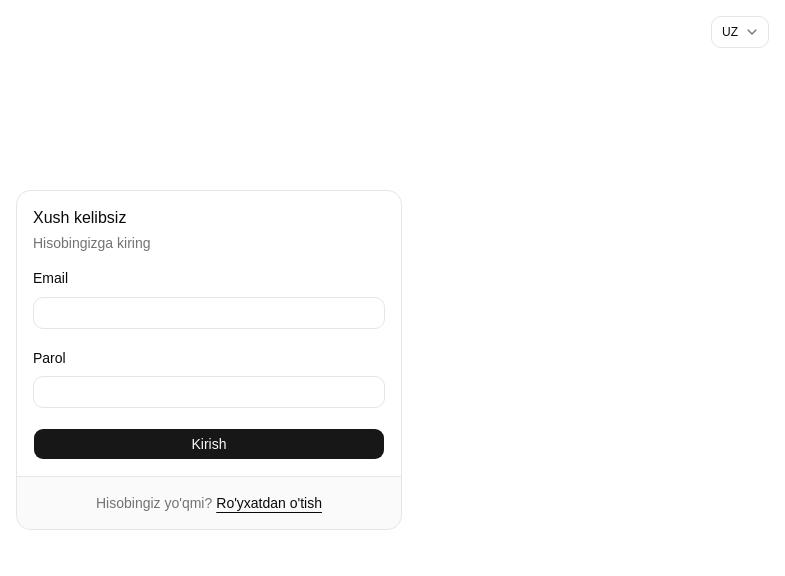
it: sign-in form › shows one uz form message for 429 and lets the user retry
Type "user@example.com" into the field labelled "Email". click: coordinates (209, 312)
box: [33,296,385,328]
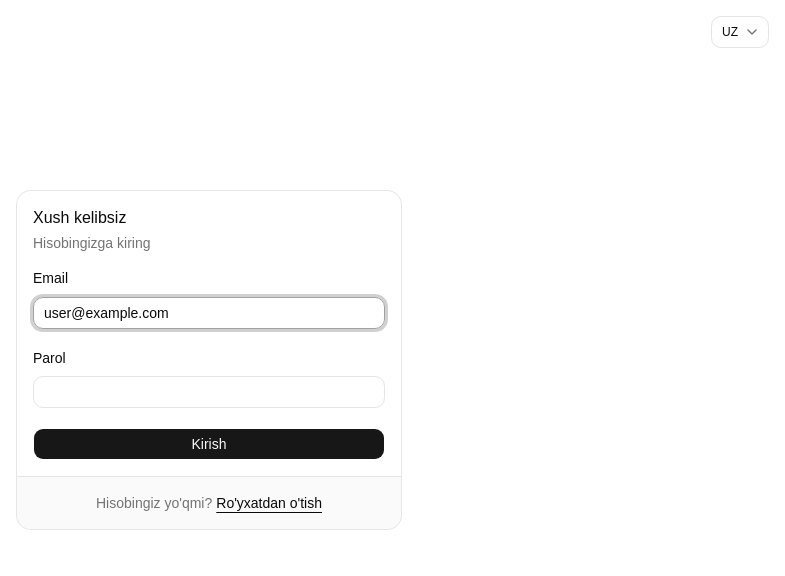
Type "correct-horse" into the password field labelled "Parol". click: coordinates (209, 392)
box: [33,376,385,408]
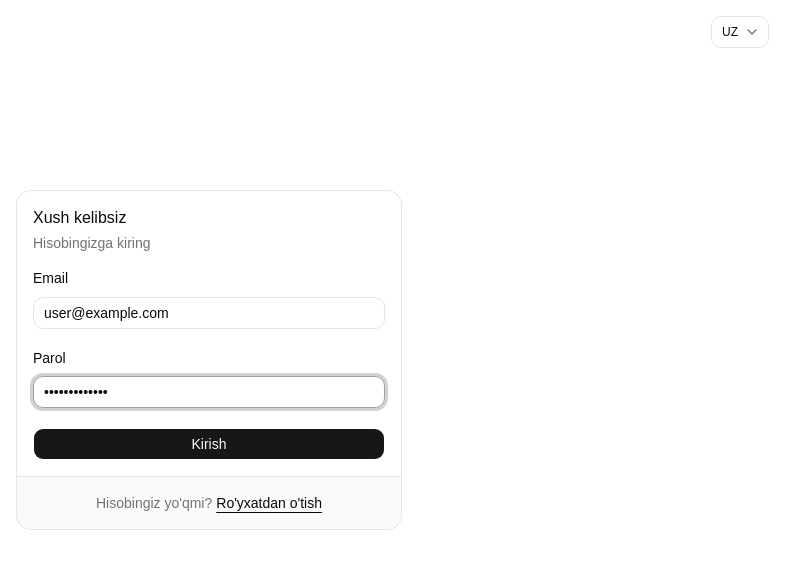
Click the button "Kirish". click: coordinates (209, 444)
box: [33,428,385,460]
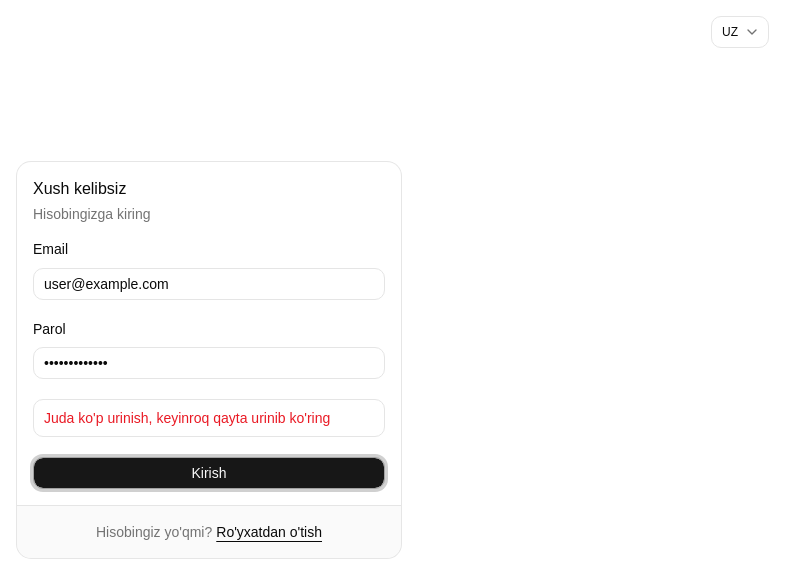
Check: the message with test id "form-error" does not show "English from the server", box [33,399,385,437]
Check: the message with test id "form-error" reads "Juda ko'p urinish, keyinroq qayta urinib ko'ring", box [44,410,330,426]
